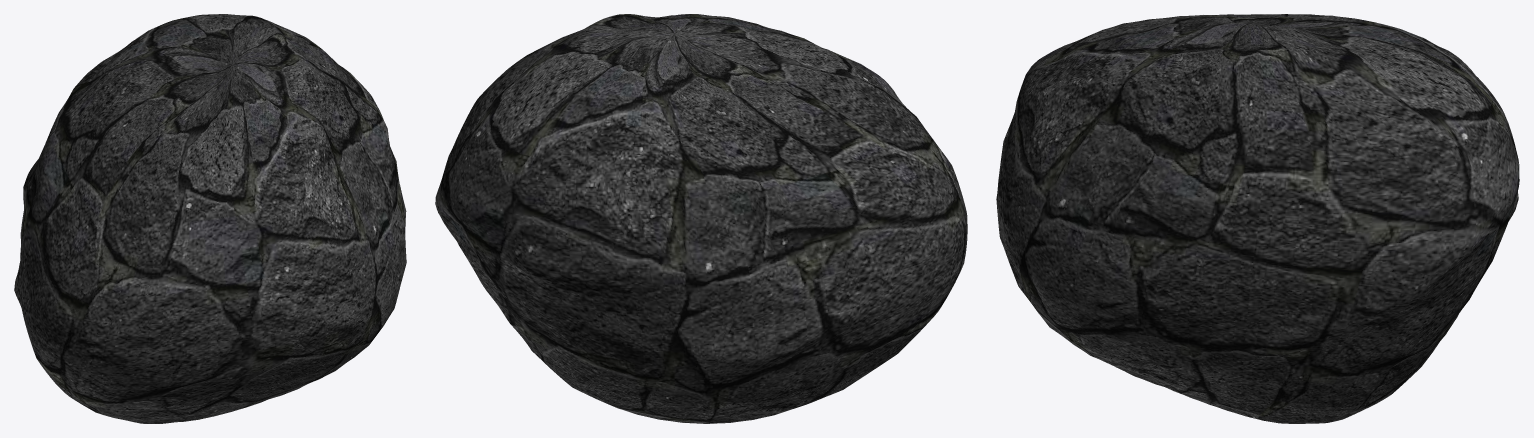
The model's file is rock-1.glb.
3 views of the same model, side by side, from view 1: azimuth 30°, elevation 25°; view 2: azimuth 150°, elevation 25°; view 3: azimuth 270°, elevation 25° (orthographic). The views are drawn at different scales.
Visible parts, largest first — view 1: Rock; view 2: Rock; view 3: Rock.
Part boxes in pixels (left/top/right/bottom): Rock: left=14, top=14, right=406, bottom=423; Rock: left=435, top=14, right=967, bottom=423; Rock: left=996, top=14, right=1519, bottom=423.
Bounding box in the file's own units: 2.14 × 1.83 × 2.15.
Materials: 1 (1 with a texture image).
